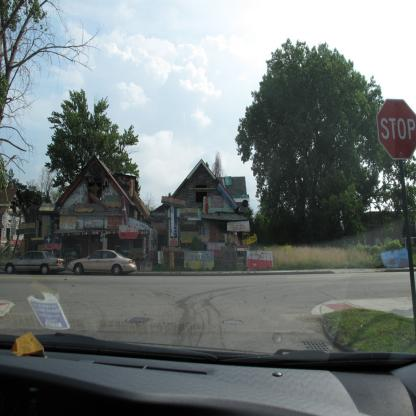Car: (0, 332, 416, 416), (70, 249, 136, 276), (4, 250, 64, 276)
